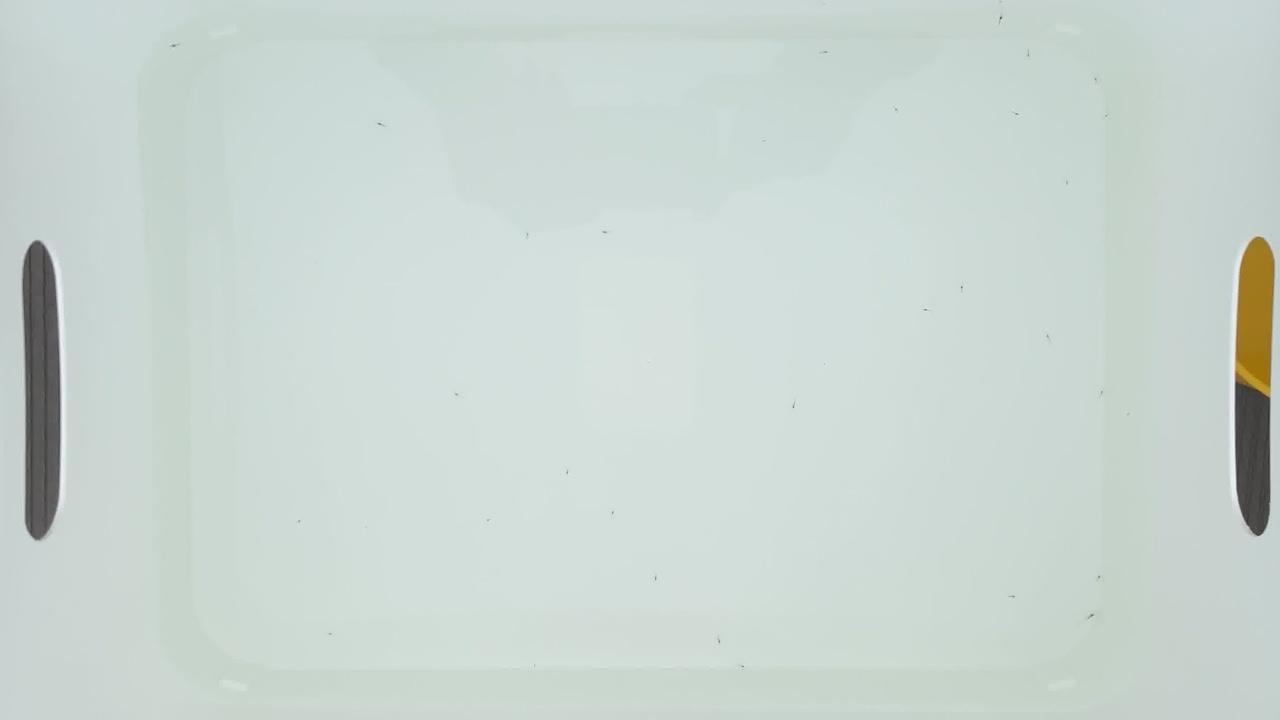shrimp: (740, 657, 752, 665), (713, 637, 725, 645), (1085, 612, 1097, 620), (1005, 590, 1017, 598), (325, 633, 337, 641), (294, 518, 306, 526), (647, 575, 659, 583), (612, 509, 624, 517), (481, 518, 493, 526), (558, 469, 570, 477), (449, 392, 461, 400), (521, 233, 533, 241), (372, 121, 384, 129), (166, 42, 178, 50), (597, 229, 609, 237), (787, 404, 799, 412), (1091, 574, 1103, 582), (1095, 389, 1107, 397), (1124, 412, 1136, 420), (1041, 335, 1053, 343), (956, 286, 968, 294), (921, 308, 933, 316), (814, 48, 826, 56), (890, 107, 902, 115), (1010, 112, 1022, 120), (1061, 179, 1073, 187), (1100, 114, 1112, 122), (1089, 77, 1101, 85), (1021, 52, 1033, 60), (995, 17, 1007, 25)
